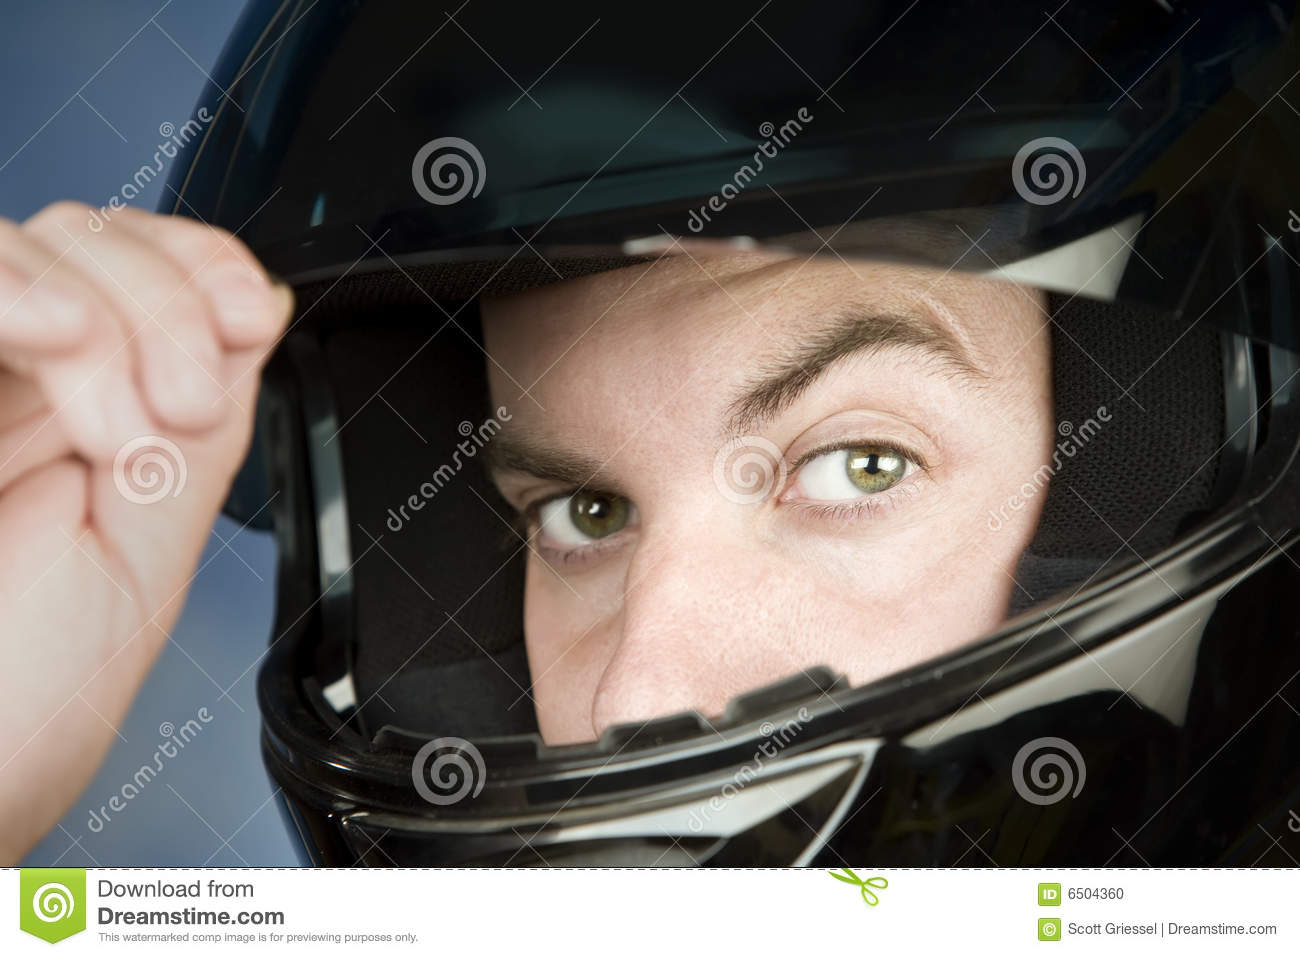helmet: (212, 23, 1296, 866)
